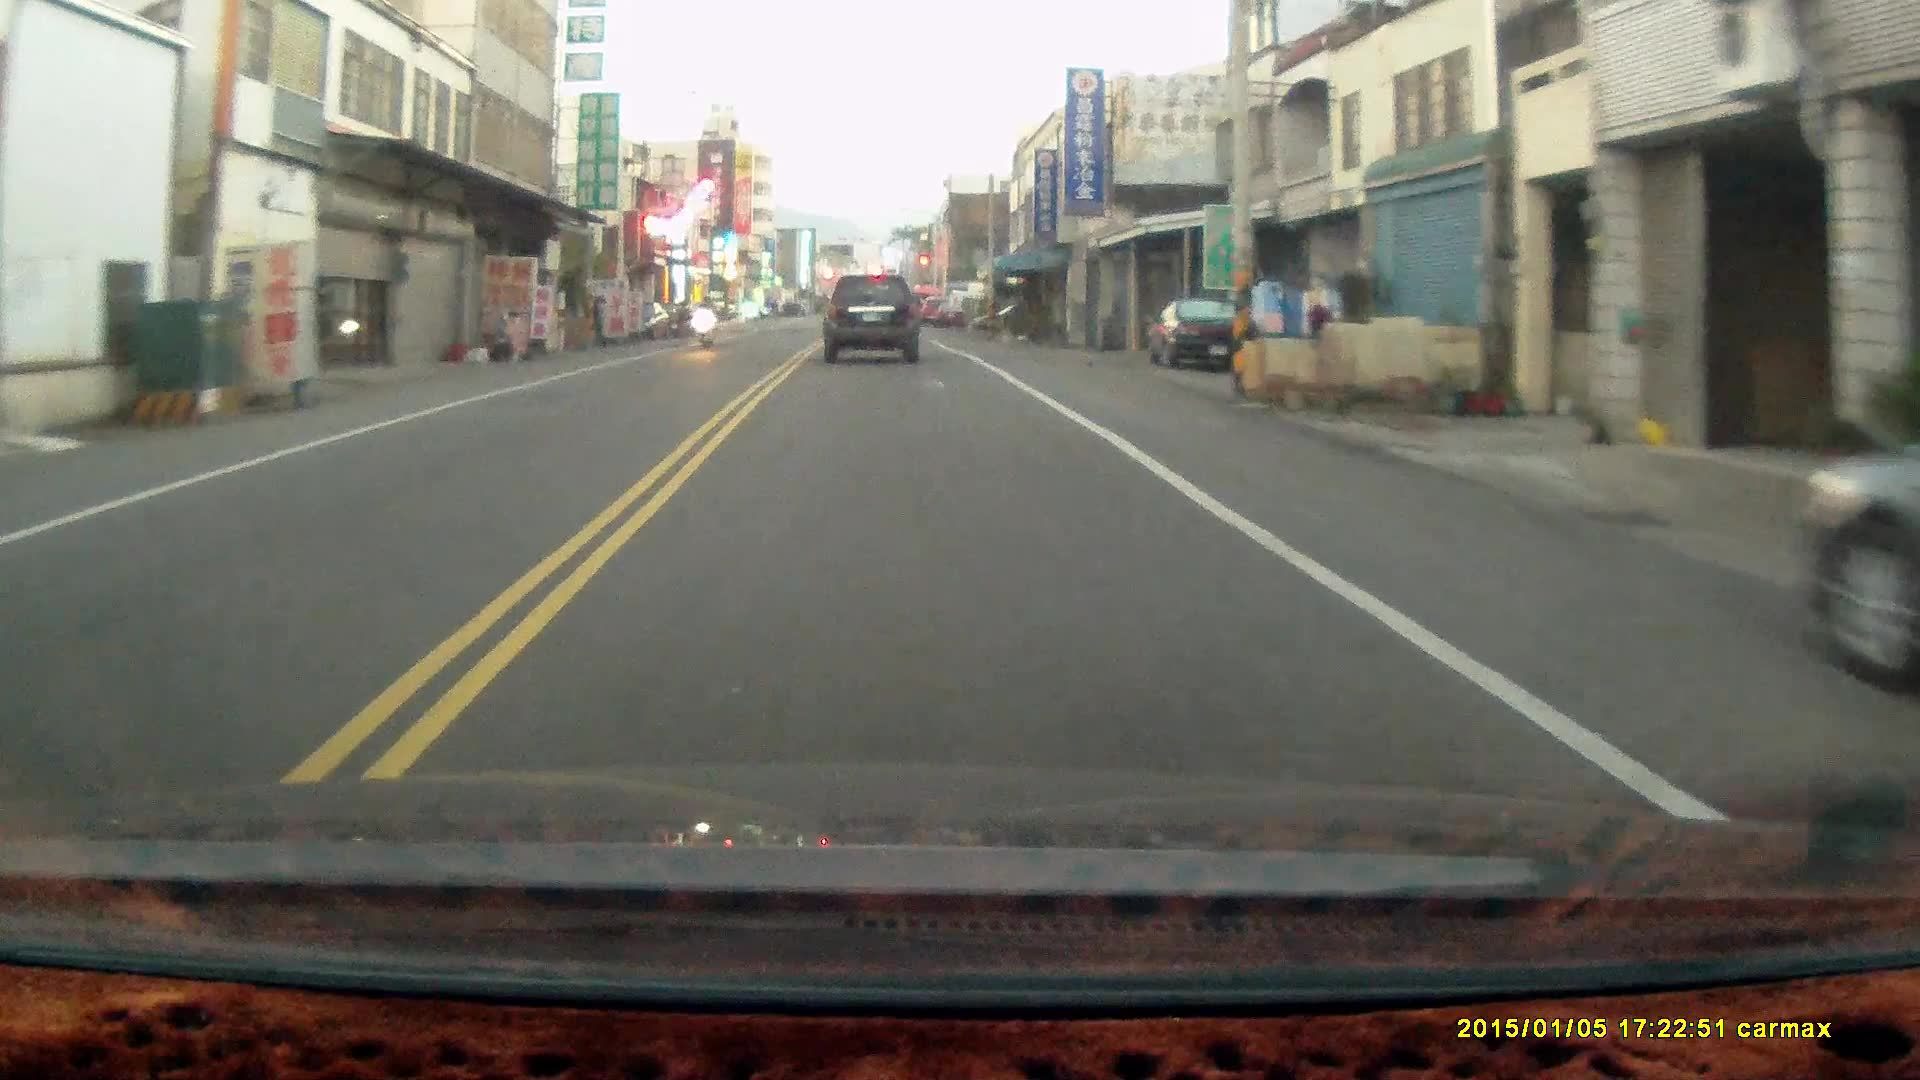pedestrian: (583, 292, 605, 351)
rider: (687, 292, 715, 348)
vehicle: (824, 276, 924, 368), (1150, 299, 1264, 377)
